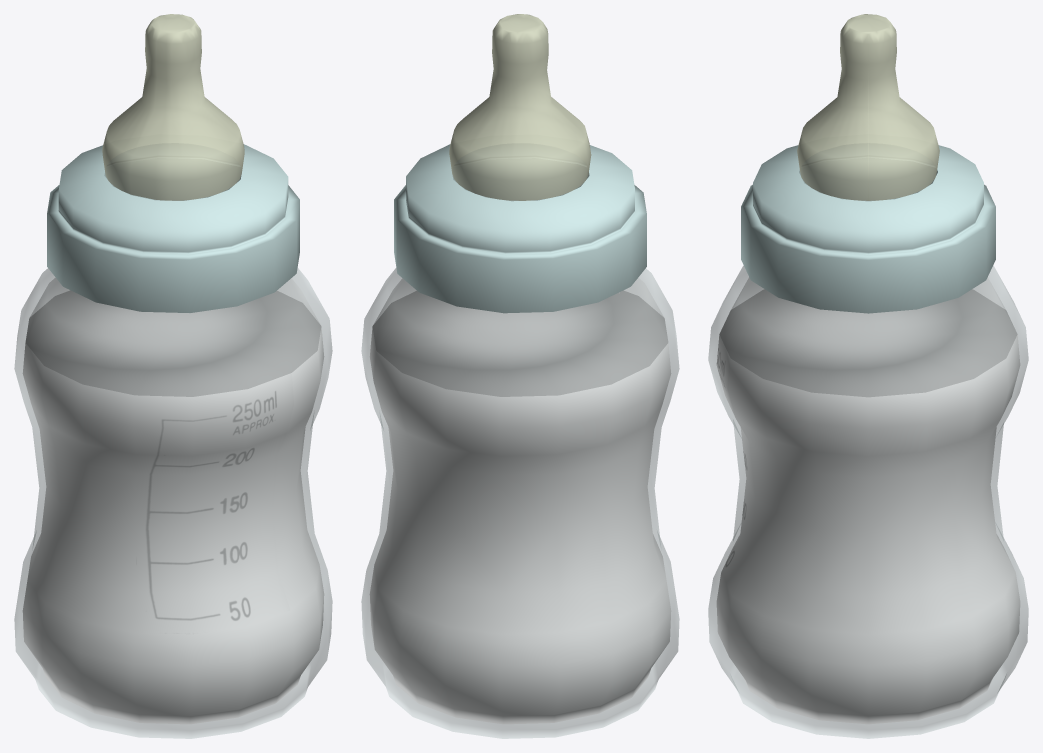
Rendered from formula_bottle.fbx.
3 renders of one model, left to right at view 1: azimuth 30°, elevation 25°; view 2: azimuth 150°, elevation 25°; view 3: azimuth 270°, elevation 25°, orthographic.
Parts seen in each view (by area): view 1: bottle, bottle_interior, lid, nipple; view 2: bottle, bottle_interior, lid, nipple; view 3: bottle, bottle_interior, lid, nipple.
Part boxes in pixels (bbox=[...]): bottle: bbox=[14, 199, 332, 738]; bottle_interior: bbox=[22, 278, 324, 724]; lid: bbox=[47, 143, 299, 312]; nipple: bbox=[102, 14, 244, 200]; bottle: bbox=[361, 200, 679, 738]; bottle_interior: bbox=[369, 278, 671, 724]; lid: bbox=[394, 144, 646, 313]; nipple: bbox=[449, 14, 591, 200]; bottle: bbox=[708, 266, 1028, 738]; bottle_interior: bbox=[716, 277, 1020, 724]; lid: bbox=[741, 144, 995, 313]; nipple: bbox=[797, 14, 939, 200].
Size of the model in its own units: 2.21 by 5.02 by 2.21.
Materials: 6 (1 with a texture image).
